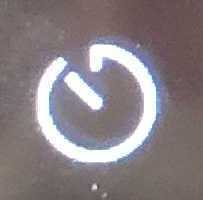timer: (4, 10, 203, 194)
